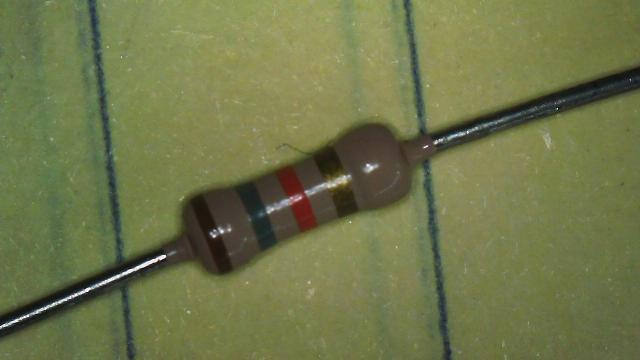brown: (192, 194, 230, 274)
gold: (314, 144, 358, 216)
grey: (236, 181, 276, 250)
orange: (276, 166, 316, 232)
resistor: (145, 88, 454, 312)
